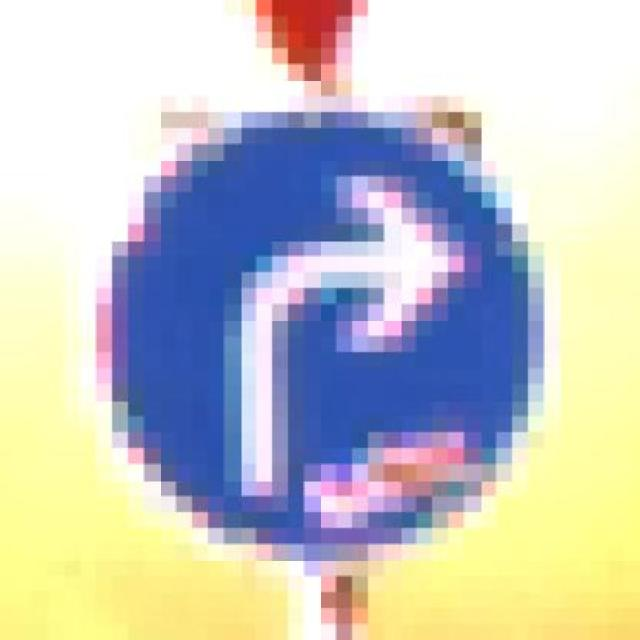Turn right ahead: (65, 96, 560, 576)
